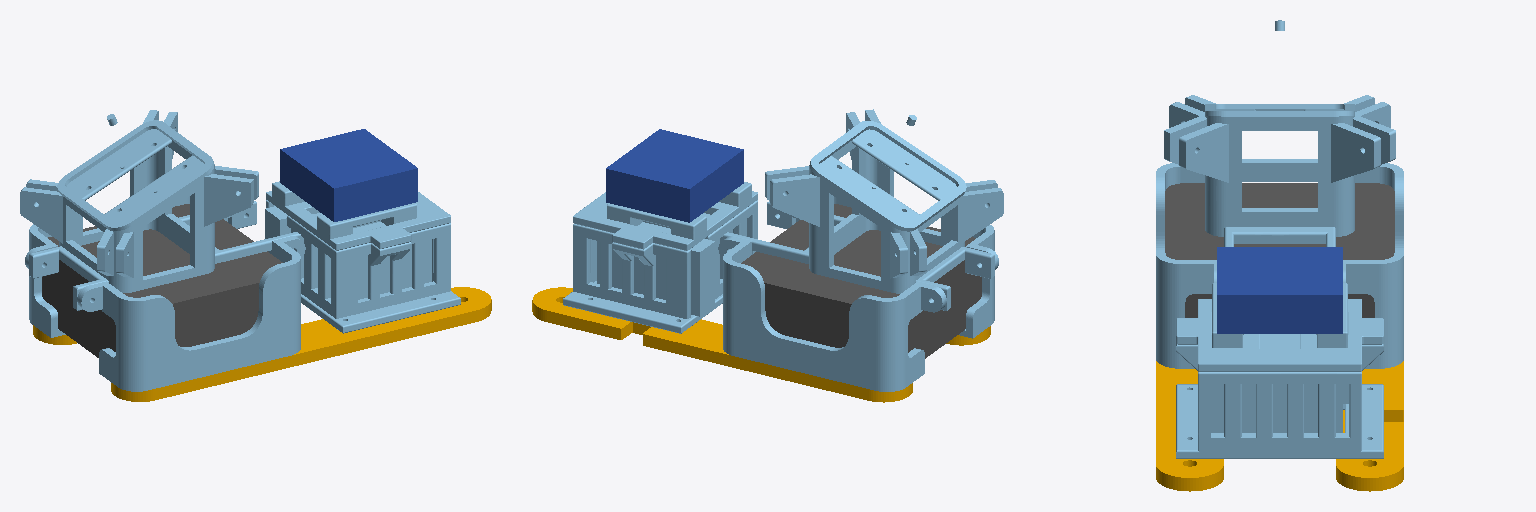
URDF robot description (onshape):
<?xml version="1.0" ?>
<!-- Generated using onshape-to-robot -->
<robot name="onshape">
    <!-- Link mid-360_lidar_unit -->
    <link name="mid-360_lidar_unit">
        <inertial>
            <origin xyz="0.0919709 0.0455289 0.0500946" rpy="0 0 0"/>
            <mass value="1.44797"/>
            <inertia ixx="0.00341863" ixy="7.45764e-05" ixz="0.00146802" iyy="0.00992739" iyz="-1.65902e-05" izz="0.00842917"/>
        </inertial>
        <!-- Part mid-360_lidar_unit -->
        <visual>
            <origin xyz="0.0240064 0.0460004 0.106664" rpy="6.12323e-17 -0.383972 -6.93889e-18"/>
            <geometry>
                <mesh filename="package://legged_perceptive_description/urdf/nuc_and_lidar/mid_360_lidar_unit.stl"/>
            </geometry>
            <material name="mid-360_lidar_unit_material">
                <color rgba="0.615686 0.811765 0.929412 1.0"/>
            </material>
        </visual>
        <collision>
            <origin xyz="0.0240064 0.0460004 0.106664" rpy="6.12323e-17 -0.383972 -6.93889e-18"/>
            <geometry>
                <mesh filename="package://legged_perceptive_description/urdf/nuc_and_lidar/mid_360_lidar_unit.stl"/>
            </geometry>
        </collision>
        <!-- Part voltageregulatormount -->
        <visual>
            <origin xyz="0.1705 0.046 0.049" rpy="1.01161e-46 -2.30521e-16 -3.14159"/>
            <geometry>
                <mesh filename="package://legged_perceptive_description/urdf/nuc_and_lidar/voltageregulatormount.stl"/>
            </geometry>
            <material name="voltageregulatormount_material">
                <color rgba="0.615686 0.811765 0.929412 1.0"/>
            </material>
        </visual>
        <collision>
            <origin xyz="0.1705 0.046 0.049" rpy="1.01161e-46 -2.30521e-16 -3.14159"/>
            <geometry>
                <mesh filename="package://legged_perceptive_description/urdf/nuc_and_lidar/voltageregulatormount.stl"/>
            </geometry>
        </collision>
        <!-- Part nuc -->
        <visual>
            <origin xyz="0.044 0.046 0.05" rpy="3.14159 -0 -1.5708"/>
            <geometry>
                <mesh filename="package://legged_perceptive_description/urdf/nuc_and_lidar/nuc.stl"/>
            </geometry>
            <material name="nuc_material">
                <color rgba="0.4 0.4 0.4 1.0"/>
            </material>
        </visual>
        <collision>
            <origin xyz="0.044 0.046 0.05" rpy="3.14159 -0 -1.5708"/>
            <geometry>
                <mesh filename="package://legged_perceptive_description/urdf/nuc_and_lidar/nuc.stl"/>
            </geometry>
        </collision>
        <!-- Part nuc_enclosure_side -->
        <visual>
            <origin xyz="0.1175 0.092 -2.60209e-18" rpy="0 -0 3.14159"/>
            <geometry>
                <mesh filename="package://legged_perceptive_description/urdf/nuc_and_lidar/nuc_enclosure_side.stl"/>
            </geometry>
            <material name="nuc_enclosure_side_material">
                <color rgba="0.615686 0.811765 0.929412 1.0"/>
            </material>
        </visual>
        <collision>
            <origin xyz="0.1175 0.092 -2.60209e-18" rpy="0 -0 3.14159"/>
            <geometry>
                <mesh filename="package://legged_perceptive_description/urdf/nuc_and_lidar/nuc_enclosure_side.stl"/>
            </geometry>
        </collision>
        <!-- Part nuc_enclosure_side_2 -->
        <visual>
            <origin xyz="-0.0305 5.58794e-11 0" rpy="0 -0 0"/>
            <geometry>
                <mesh filename="package://legged_perceptive_description/urdf/nuc_and_lidar/nuc_enclosure_side.stl"/>
            </geometry>
            <material name="nuc_enclosure_side_2_material">
                <color rgba="0.615686 0.811765 0.929412 1.0"/>
            </material>
        </visual>
        <collision>
            <origin xyz="-0.0305 5.58794e-11 0" rpy="0 -0 0"/>
            <geometry>
                <mesh filename="package://legged_perceptive_description/urdf/nuc_and_lidar/nuc_enclosure_side.stl"/>
            </geometry>
        </collision>
        <!-- Part mounting_rail -->
        <visual>
            <origin xyz="0.10975 0.0745 -2.60209e-18" rpy="-6.16298e-33 -1.2326e-32 -2.77556e-17"/>
            <geometry>
                <mesh filename="package://legged_perceptive_description/urdf/nuc_and_lidar/mounting_rail.stl"/>
            </geometry>
            <material name="mounting_rail_material">
                <color rgba="0.980392 0.713725 0.00392157 1.0"/>
            </material>
        </visual>
        <collision>
            <origin xyz="0.10975 0.0745 -2.60209e-18" rpy="-6.16298e-33 -1.2326e-32 -2.77556e-17"/>
            <geometry>
                <mesh filename="package://legged_perceptive_description/urdf/nuc_and_lidar/mounting_rail.stl"/>
            </geometry>
        </collision>
        <!-- Part psu -->
        <visual>
            <origin xyz="0.169134 0.046 0.063" rpy="-2.30521e-16 -1.01161e-46 -1.5708"/>
            <geometry>
                <mesh filename="package://legged_perceptive_description/urdf/nuc_and_lidar/psu.stl"/>
            </geometry>
            <material name="psu_material">
                <color rgba="0.231373 0.380392 0.705882 1.0"/>
            </material>
        </visual>
        <collision>
            <origin xyz="0.169134 0.046 0.063" rpy="-2.30521e-16 -1.01161e-46 -1.5708"/>
            <geometry>
                <mesh filename="package://legged_perceptive_description/urdf/nuc_and_lidar/psu.stl"/>
            </geometry>
        </collision>
        <!-- Part battery -->
        <visual>
            <origin xyz="0.1725 0.008 0.026" rpy="-1.5708 2.30521e-16 0"/>
            <geometry>
                <mesh filename="package://legged_perceptive_description/urdf/nuc_and_lidar/battery.stl"/>
            </geometry>
            <material name="battery_material">
                <color rgba="0.615686 0.811765 0.929412 1.0"/>
            </material>
        </visual>
        <collision>
            <origin xyz="0.1725 0.008 0.026" rpy="-1.5708 2.30521e-16 0"/>
            <geometry>
                <mesh filename="package://legged_perceptive_description/urdf/nuc_and_lidar/battery.stl"/>
            </geometry>
        </collision>
        <!-- Part frame -->
        <visual>
            <origin xyz="0.00640463 0.0460605 0.15023" rpy="3.14159 0.383972 -3.14159"/>
            <geometry>
                <mesh filename="package://legged_perceptive_description/urdf/nuc_and_lidar/frame.stl"/>
            </geometry>
            <material name="frame_material">
                <color rgba="0.615686 0.811765 0.929412 1.0"/>
            </material>
        </visual>
        <collision>
            <origin xyz="0.00640463 0.0460605 0.15023" rpy="3.14159 0.383972 -3.14159"/>
            <geometry>
                <mesh filename="package://legged_perceptive_description/urdf/nuc_and_lidar/frame.stl"/>
            </geometry>
        </collision>
        <!-- Part mounting_rail_2 -->
        <visual>
            <origin xyz="0.10975 -0.0175 0" rpy="0 -0 0"/>
            <geometry>
                <mesh filename="package://legged_perceptive_description/urdf/nuc_and_lidar/mounting_rail.stl"/>
            </geometry>
            <material name="mounting_rail_2_material">
                <color rgba="0.980392 0.713725 0.00392157 1.0"/>
            </material>
        </visual>
        <collision>
            <origin xyz="0.10975 -0.0175 0" rpy="0 -0 0"/>
            <geometry>
                <mesh filename="package://legged_perceptive_description/urdf/nuc_and_lidar/mounting_rail.stl"/>
            </geometry>
        </collision>
        <!-- Part part_1 -->
        <visual>
            <origin xyz="0.0435 0.0745 0.0515" rpy="3.14159 1.15074e-31 3.14159"/>
            <geometry>
                <mesh filename="package://legged_perceptive_description/urdf/nuc_and_lidar/part_1.stl"/>
            </geometry>
            <material name="part_1_material">
                <color rgba="0.615686 0.811765 0.929412 1.0"/>
            </material>
        </visual>
        <collision>
            <origin xyz="0.0435 0.0745 0.0515" rpy="3.14159 1.15074e-31 3.14159"/>
            <geometry>
                <mesh filename="package://legged_perceptive_description/urdf/nuc_and_lidar/part_1.stl"/>
            </geometry>
        </collision>
        <!-- Part batterymount -->
        <visual>
            <origin xyz="0.1745 0.046 -6.93889e-18" rpy="-2.30521e-16 -0 -1.5708"/>
            <geometry>
                <mesh filename="package://legged_perceptive_description/urdf/nuc_and_lidar/batterymount.stl"/>
            </geometry>
            <material name="batterymount_material">
                <color rgba="0.615686 0.811765 0.929412 1.0"/>
            </material>
        </visual>
        <collision>
            <origin xyz="0.1745 0.046 -6.93889e-18" rpy="-2.30521e-16 -0 -1.5708"/>
            <geometry>
                <mesh filename="package://legged_perceptive_description/urdf/nuc_and_lidar/batterymount.stl"/>
            </geometry>
        </collision>
    </link>
    <!-- Frame livox (dummy link + fixed joint) -->
    <link name="livox">
        <origin xyz="0 0 0" rpy="0 -0 0"/>
        <inertial>
            <origin xyz="0 0 0" rpy="0 0 0"/>
            <mass value="1e-9"/>
            <inertia ixx="0" ixy="0" ixz="0" iyy="0" iyz="0" izz="0"/>
        </inertial>
    </link>
    <joint name="livox_frame" type="fixed">
        <origin xyz="0.00640463 0.0460605 0.15023" rpy="3.14159 0.383972 -3.14159"/>
        <parent link="mid-360_lidar_unit"/>
        <child link="livox"/>
        <axis xyz="0 0 0"/>
    </joint>
</robot>

--- Facts derived from the render (not from the file) ---
Views: 3 orthographic renders of the robot side by side, from view 1: azimuth 30°, elevation 25°; view 2: azimuth 150°, elevation 25°; view 3: azimuth 270°, elevation 25°.
Robot: onshape — 2 links, 1 joints (1 fixed); root link mid-360_lidar_unit; default pose: all joints at 0.
Visible links, largest first — view 1: mid-360_lidar_unit; view 2: mid-360_lidar_unit; view 3: mid-360_lidar_unit.
Boxes of the visible links, x1,y1,x2,y2 form: mid-360_lidar_unit: [20, 110, 491, 401]; mid-360_lidar_unit: [532, 109, 1003, 402]; mid-360_lidar_unit: [1156, 20, 1403, 491].
Bounding box of the posed robot: 0.27 × 0.127 × 0.1588 m (x, y, z).
Meshes: 10 distinct files referenced, 11 mesh visuals loaded (9 binary STL); not drawn: 1 (reference not matched to a file when rendering).
